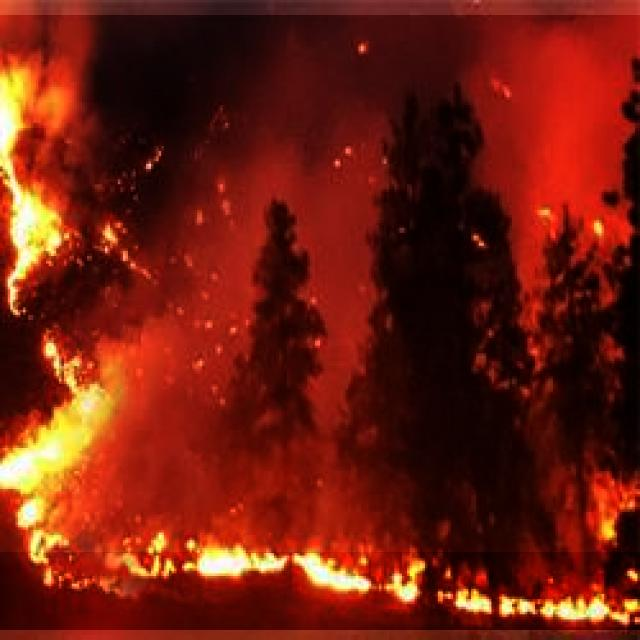Fire: (0, 486, 640, 630), (0, 26, 107, 592)
Smoke: (0, 15, 640, 552)
